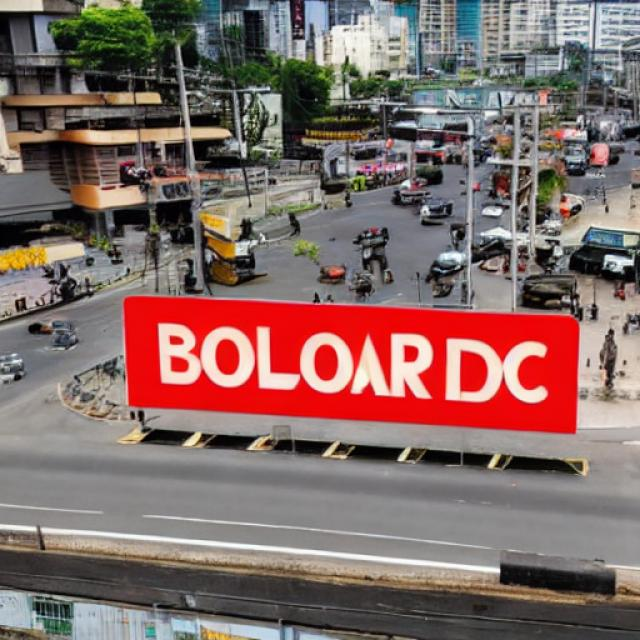Billboard: (123, 288, 582, 437)
